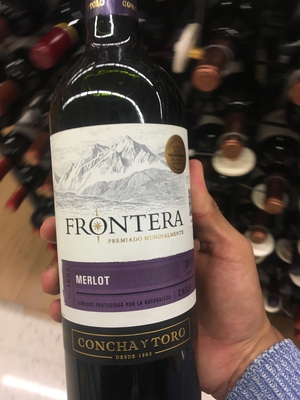frontera merlot: (37, 18, 226, 384)
